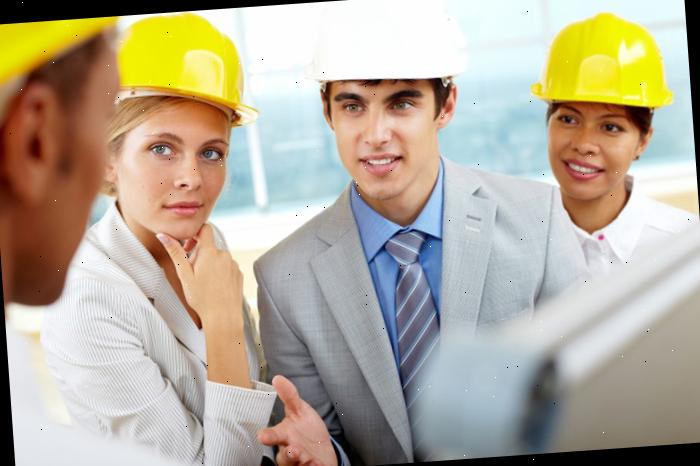helmet: (112, 9, 270, 130), (524, 6, 676, 120), (303, 0, 474, 92)
no_wear: (268, 165, 576, 465), (48, 229, 269, 466)
